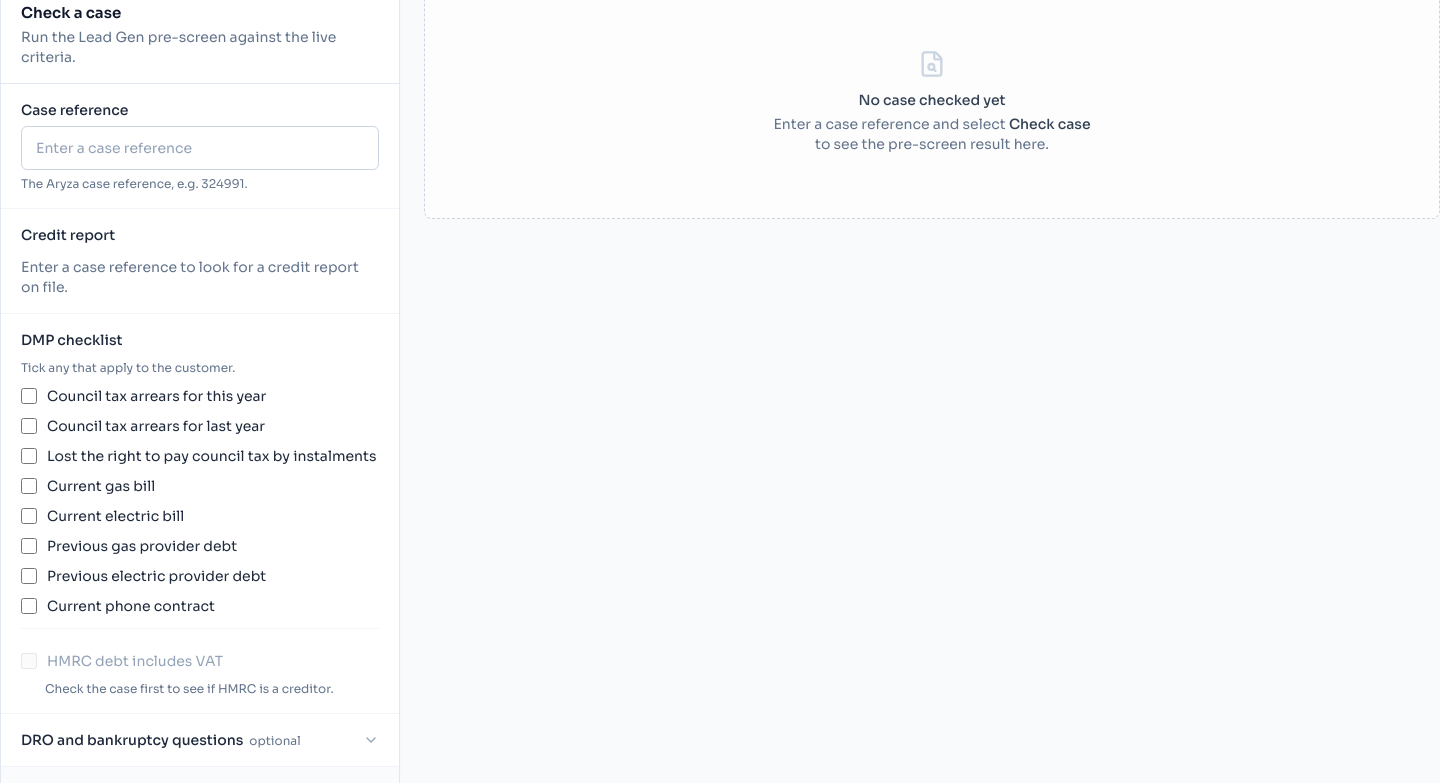
LeadGenCheckPanel › groups reasons by solution and shows every one on request
The image size is (1440, 783).
Type "123456" into the field labelled "Case reference".
click(200, 148); type("123456")  # box [21,126,379,170]
(page scrolled)
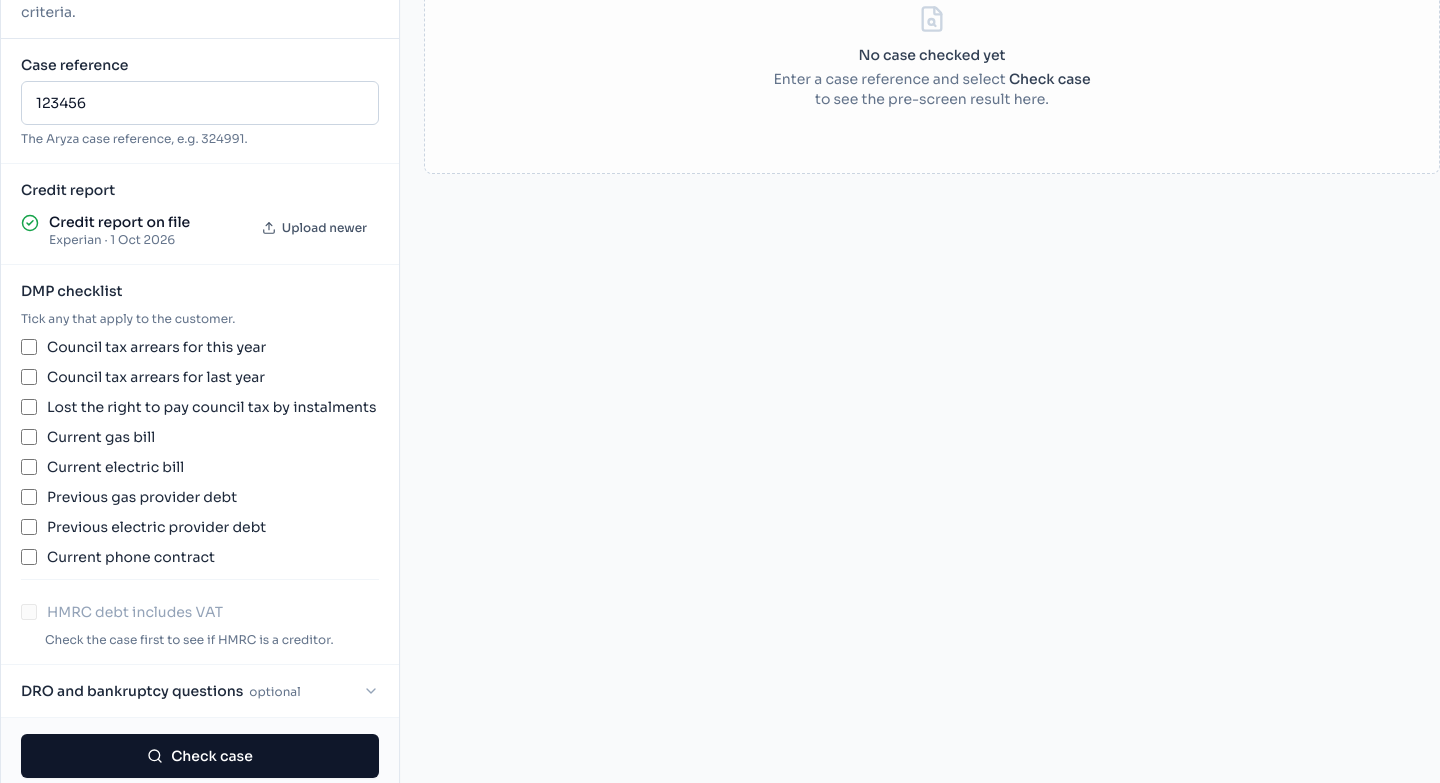
Click the button "Check case".
click(200, 756)  # box [21,734,379,778]
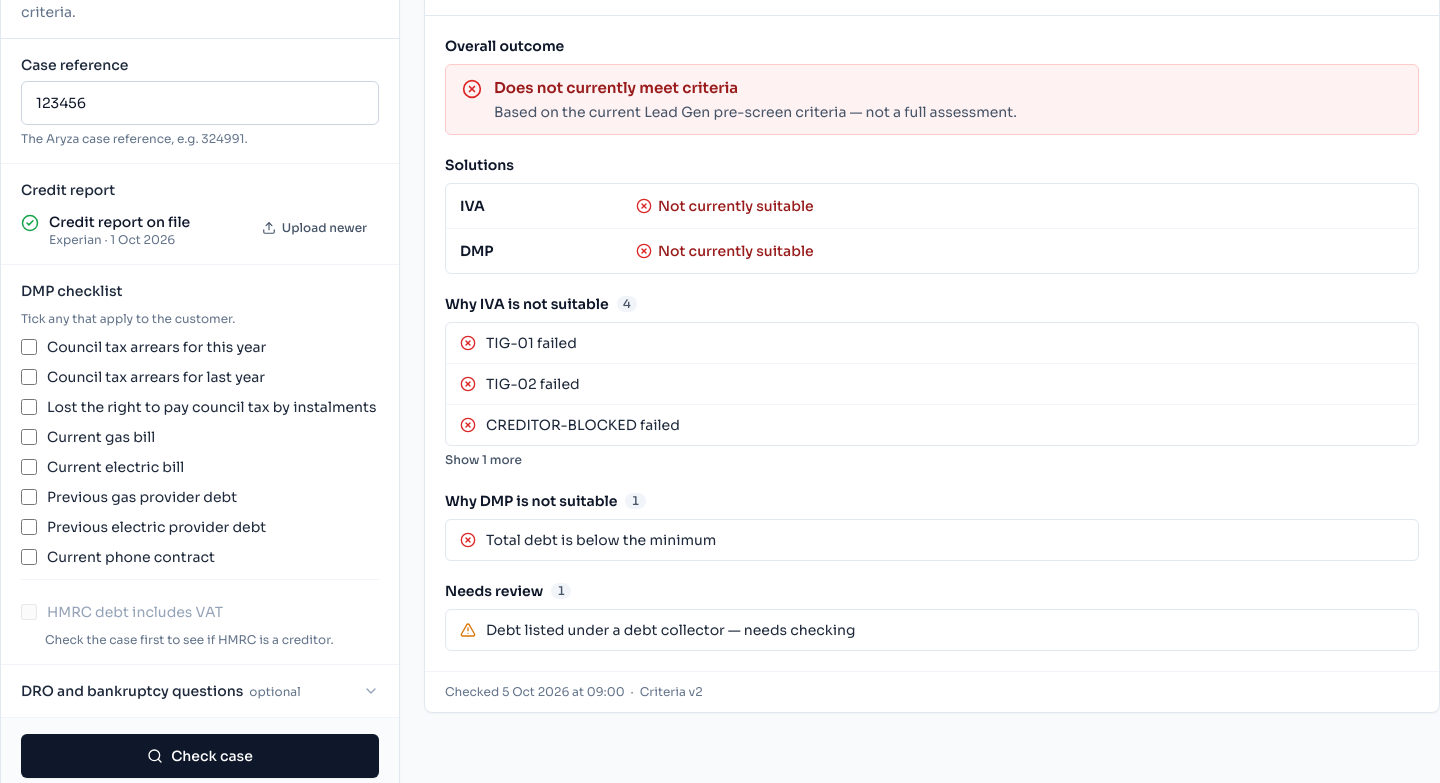
Expected: the heading "Why IVA is not suitable" is shown, [445,294,609,314]
Expected: the heading "Why DMP is not suitable" is shown, [445,490,617,510]
Expected: the text "Total debt is below the minimum" is shown, [486,530,716,550]
Click the button "Show 1 more".
click(483, 460)  # box [445,452,522,468]
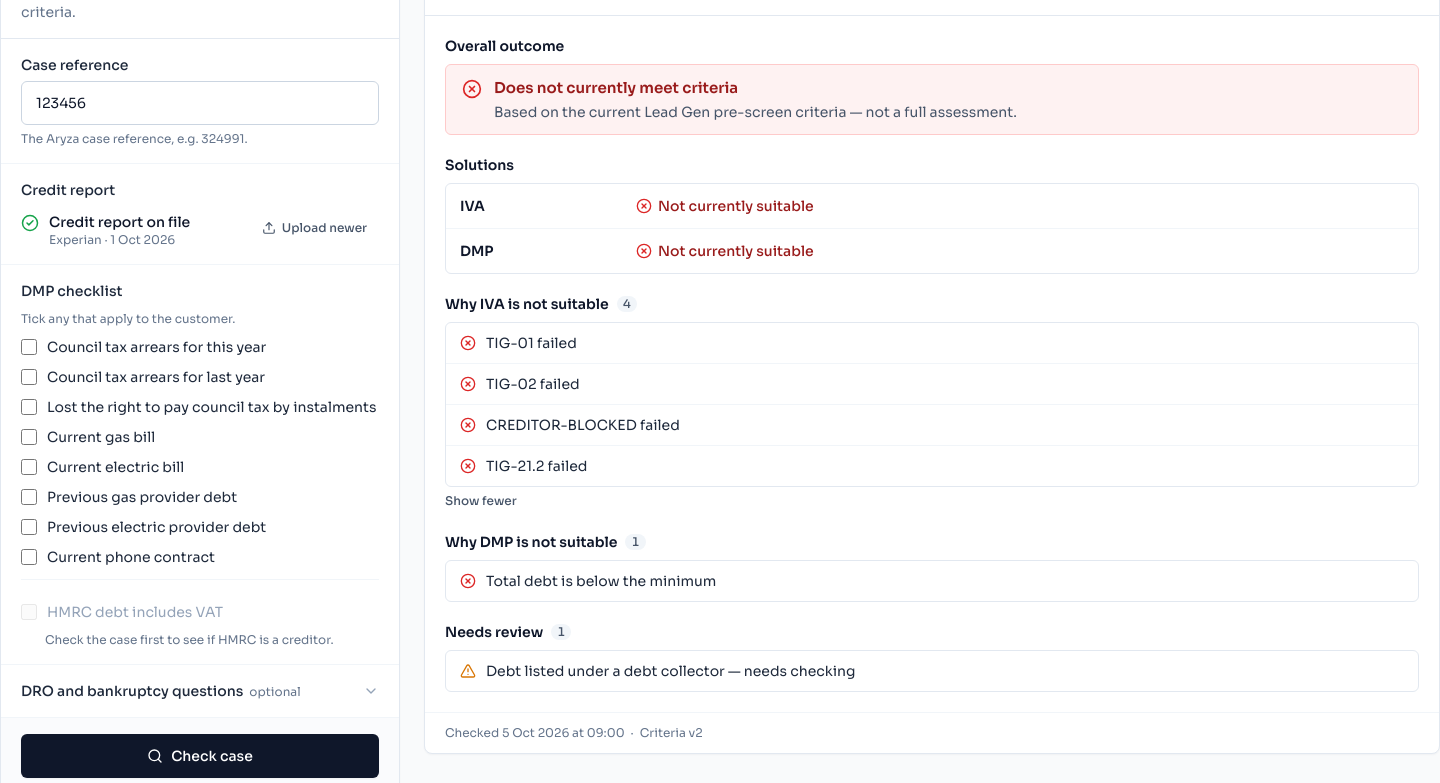
Expected: the text "TIG-21.2 failed" is shown, [486,456,587,476]
Click the button "Show fewer".
click(481, 500)  # box [445,492,517,508]
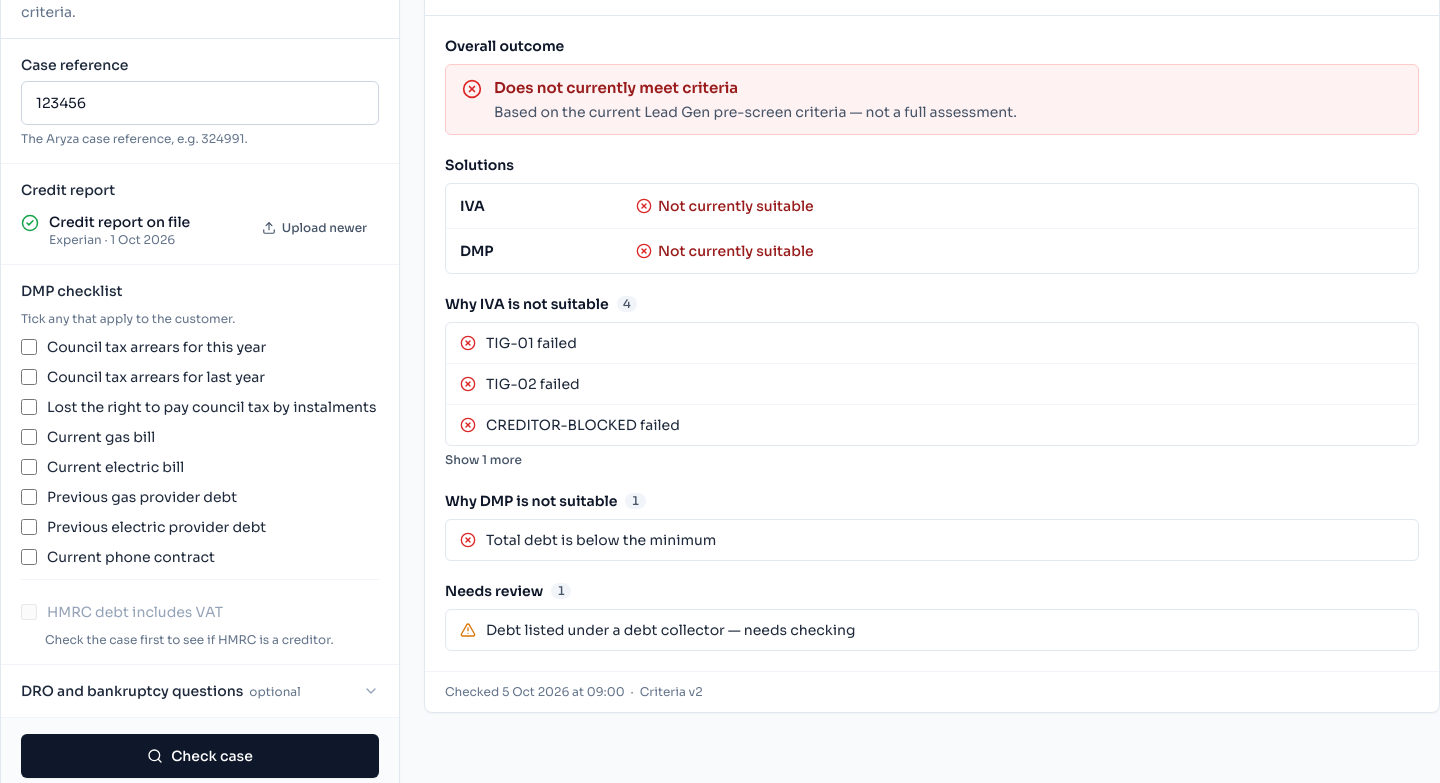
Expected: the text "TIG-21.2 failed" is gone
